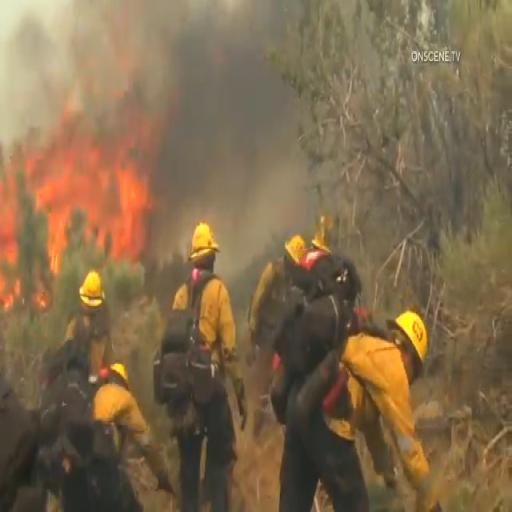fire: (0, 139, 161, 265)
smoke: (162, 18, 274, 150)
